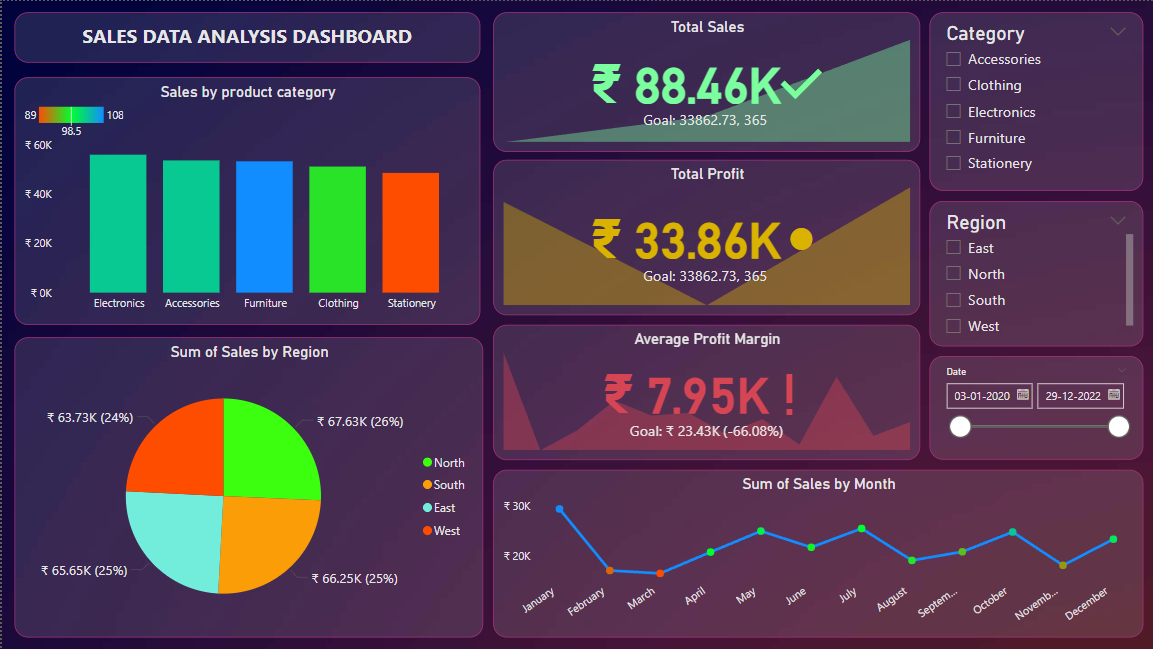

The dashboard page shown, as its layout file describes it:
{"tool":"powerbi","page":{"name":"Page 1","canvas":[1280,720],"ordinal":0},"visuals":[{"type":"textbox","box":[13.5,12.2,517.3,56.3],"z":0},{"type":"columnChart","title":"Sales by product category","fields":{"Category":["Sheet1.Category"],"Y":["Sum(Sheet1.Sales)"]},"box":[13.5,84.4,517.3,275.1],"z":1000},{"type":"lineChart","fields":{"Category":["Sheet1.Date.Variation.Date Hierarchy.Month"],"Y":["Sum(Sheet1.Sales)"]},"box":[545.8,520.8,722.2,186.1],"z":2000},{"type":"pieChart","fields":{"Category":["Sheet1.Region"],"Y":["Sum(Sheet1.Sales)"]},"box":[13.9,373.6,520.8,333.3],"z":3000},{"type":"slicer","fields":{"Values":["Sheet1.Region"]},"box":[1030.8,222.6,237.2,161.4],"z":4000},{"type":"slicer","fields":{"Values":["Sheet1.Date"]},"box":[1030.8,395,237.2,114.9],"z":5000},{"type":"slicer","fields":{"Values":["Sheet1.Category"]},"box":[1030.8,12.2,237.2,198.1],"z":6000},{"type":"kpi","title":"Total Sales","fields":{"Indicator":["Sum(Sheet1.Sales)"],"TrendLine":["Sheet1.Date.Variation.Date Hierarchy.Year"],"Goal":["Sum(Sheet1.Profit)","CountNonNull(Sheet1.Date.Variation.Date Hierarchy.Year)"]},"box":[545.4,12.2,474.5,155.3],"z":7000},{"type":"kpi","title":"Total Profit","fields":{"TrendLine":["Sheet1.Date.Variation.Date Hierarchy.Year"],"Goal":["Sum(Sheet1.Profit)","CountNonNull(Sheet1.Date.Variation.Date Hierarchy.Year)"],"Indicator":["Sum(Sheet1.Profit)"]},"box":[545.4,176.1,474.5,172.4],"z":8000},{"type":"kpi","title":"Average Profit Margin","fields":{"Indicator":["Sum(Sheet1.Profit)"],"Goal":["Sum(Sheet1.Sales)"],"TrendLine":["Sheet1.Date.Variation.Date Hierarchy.Month"]},"box":[545.4,359.5,474.5,150.4],"z":9000}]}

Visuals, with their boxes in screenshot pixels (x1, y1, x2, y2), scaled from the page's 1280x720 canvas onto the 1153x649 screenshot:
textbox: <bbox>12, 11, 478, 62</bbox>
"Sales by product category" columnChart: <bbox>12, 76, 478, 324</bbox>
lineChart - Sheet1.Date.Variation.Date Hierarchy.Month x Sum(Sheet1.Sales): <bbox>492, 469, 1142, 637</bbox>
pieChart - Sheet1.Region x Sum(Sheet1.Sales): <bbox>13, 337, 482, 637</bbox>
slicer - Sheet1.Region: <bbox>929, 201, 1142, 346</bbox>
slicer - Sheet1.Date: <bbox>929, 356, 1142, 460</bbox>
slicer - Sheet1.Category: <bbox>929, 11, 1142, 190</bbox>
"Total Sales" kpi: <bbox>491, 11, 919, 151</bbox>
"Total Profit" kpi: <bbox>491, 159, 919, 314</bbox>
"Average Profit Margin" kpi: <bbox>491, 324, 919, 460</bbox>
